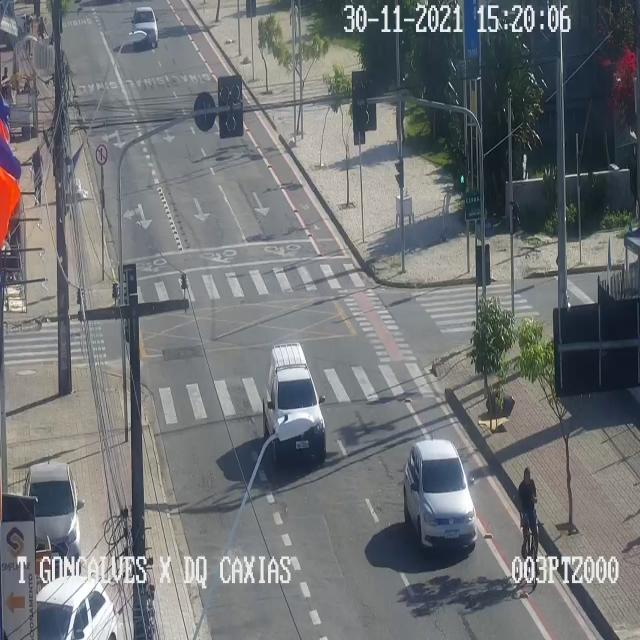Car: (404, 439, 476, 548), (262, 344, 325, 460), (24, 462, 80, 572), (36, 575, 116, 639), (132, 6, 157, 46)
